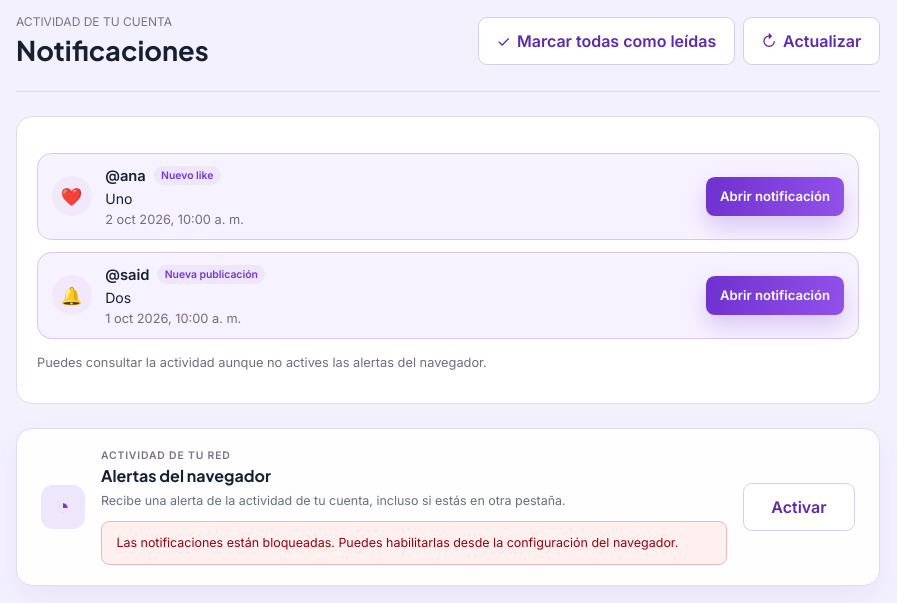
Scenario: marca todas como leídas desde la cabecera y oculta el botón
The image size is (897, 603).
Click the button "✓ Marcar todas como leídas". click: (606, 40)
box: [478,16,735,64]
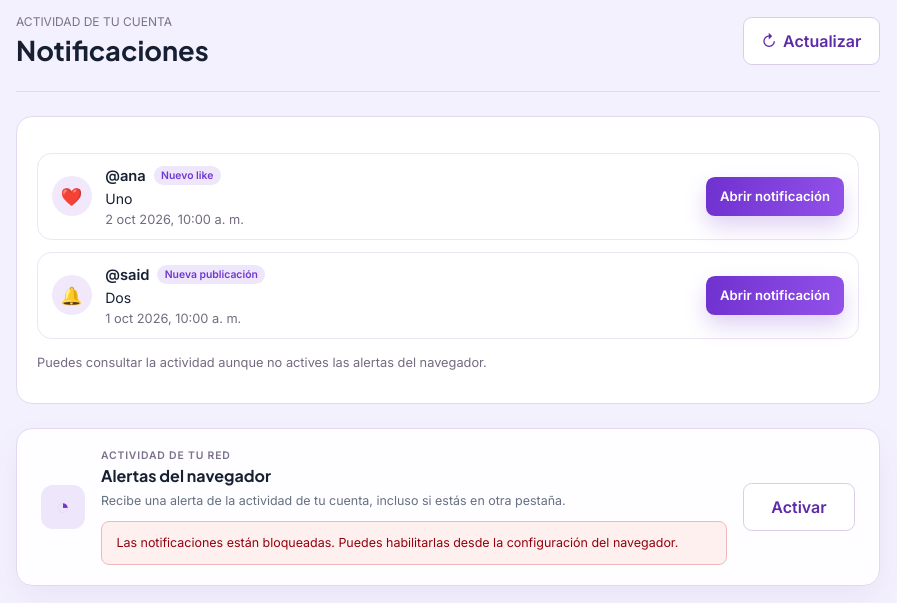
Expected: the button "Marcar todas como leídas" is gone
